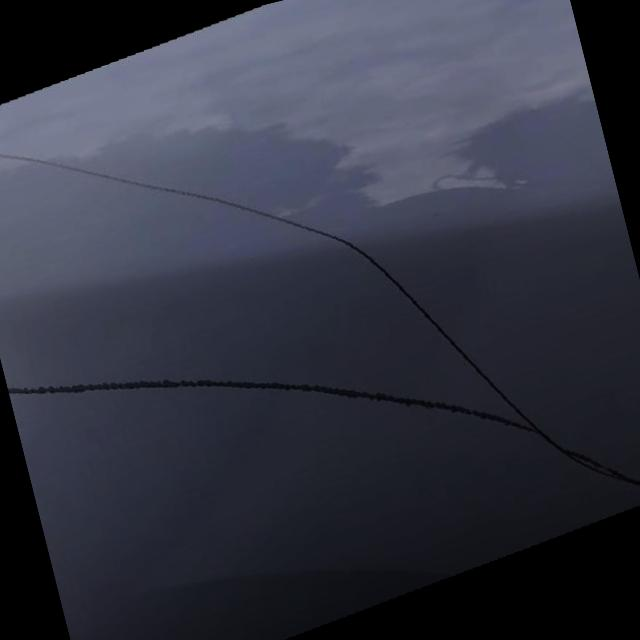crack: (73, 330, 432, 479)
